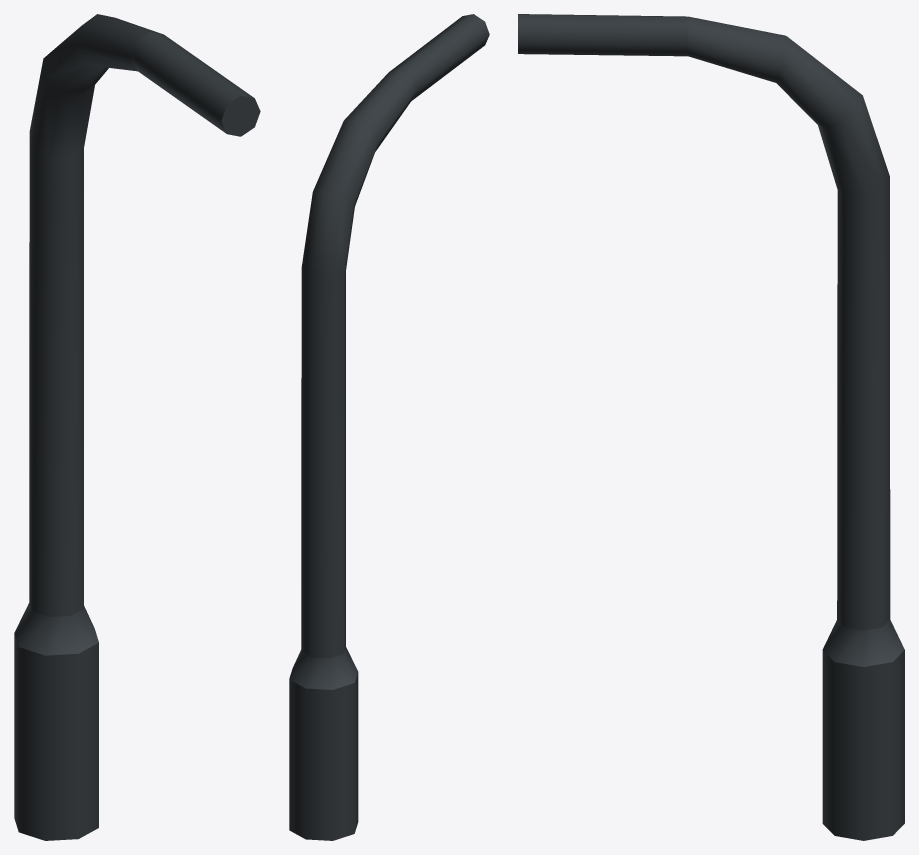
File: Road_Sign_A1.fbx
3 renders of one model, left to right at view 1: azimuth 30°, elevation 25°; view 2: azimuth 150°, elevation 25°; view 3: azimuth 270°, elevation 25°, orthographic. The views are drawn at different scales.
Visible parts, largest first — view 1: Road_Sign_A1; view 2: Road_Sign_A1; view 3: Road_Sign_A1.
Part boxes in pixels (left/top/right/bottom): Road_Sign_A1: left=14, top=14, right=260, bottom=840; Road_Sign_A1: left=289, top=14, right=489, bottom=840; Road_Sign_A1: left=518, top=14, right=904, bottom=840.
Size of the model in its own units: 47.62 by 517 by 224.
1 material, 1 textured.
